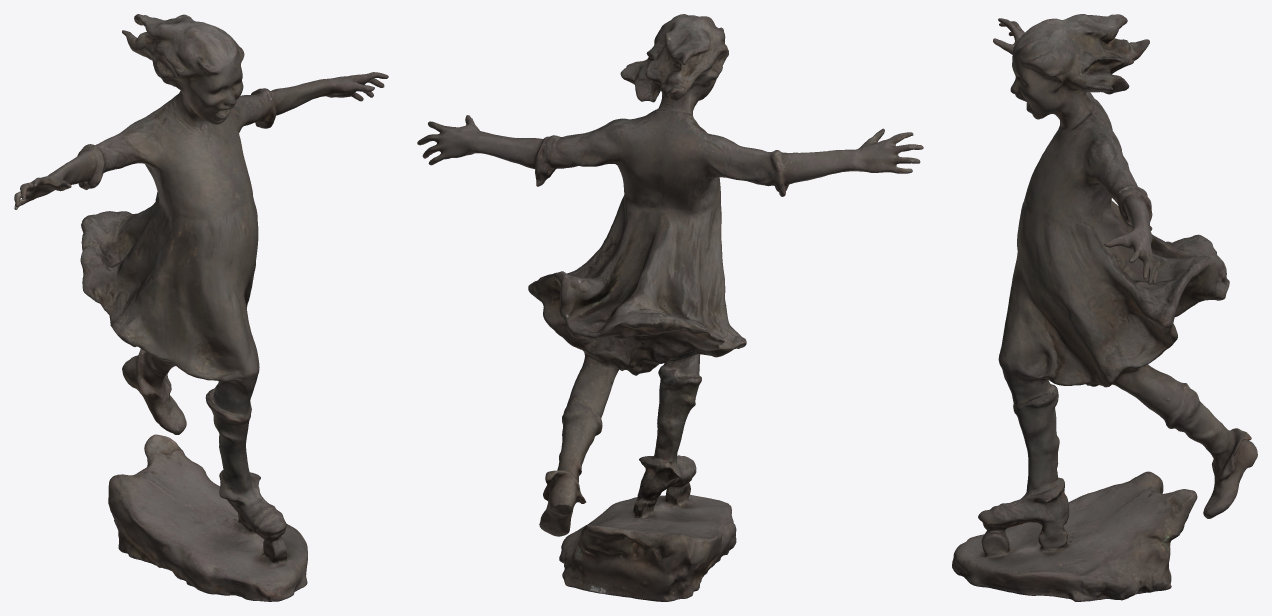
Rendered from girl_skating.glb.
3 views of the same model, side by side, from view 1: azimuth 30°, elevation 25°; view 2: azimuth 150°, elevation 25°; view 3: azimuth 270°, elevation 25° (orthographic). The views are drawn at different scales.
Bounding box in the file's own units: 0.2777 × 0.3311 × 0.172.
Materials: 1 (1 with a texture image).
